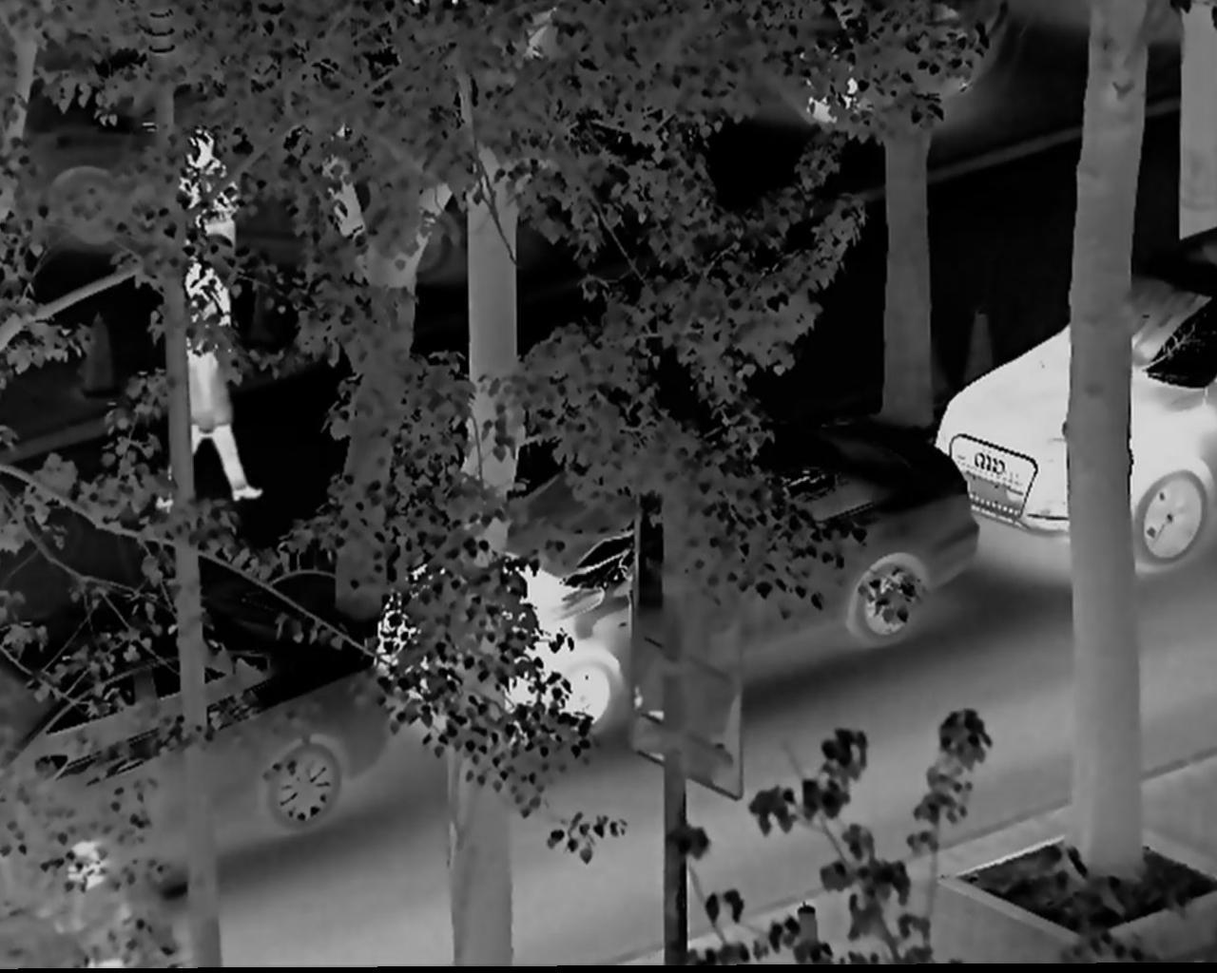person: (140, 287, 261, 508), (171, 119, 237, 300)
